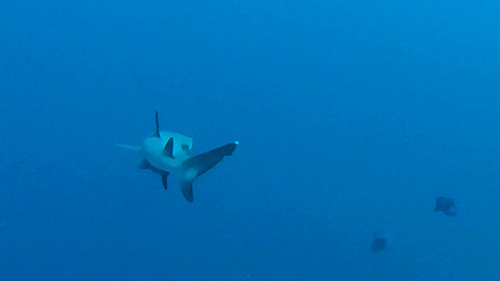shark: (110, 90, 255, 212)
